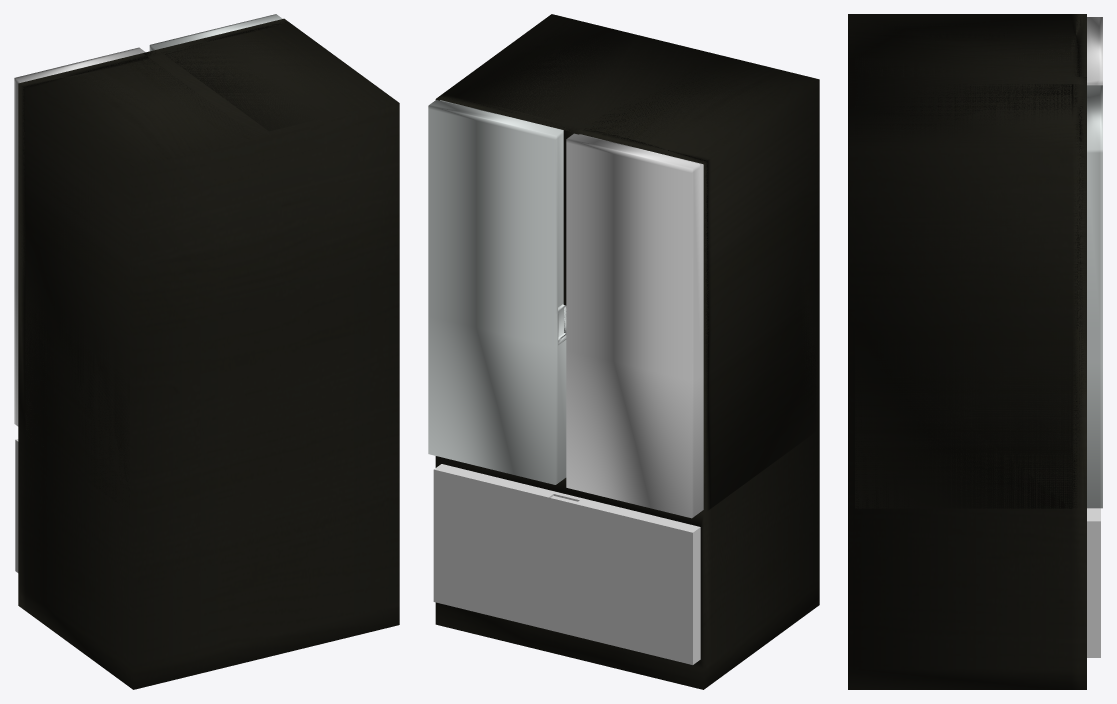
Rendered from WAILE (1).glb.
3 views of the same model, side by side, from view 1: azimuth 30°, elevation 25°; view 2: azimuth 150°, elevation 25°; view 3: azimuth 270°, elevation 25° (orthographic). The views are drawn at different scales.
Visible parts, largest first — view 1: Cube, Cube.002, Cube.003; view 2: Cube, Cube.002, Cube.003, Cube.001; view 3: Cube, Cube.003, Cube.001, Cube.002.
Boxes of the visible parts, box(x1,y1,x2,y2) form: Cube: box(18, 18, 399, 689); Cube.002: box(14, 47, 145, 426); Cube.003: box(149, 14, 282, 51); Cube: box(435, 14, 819, 689); Cube.002: box(566, 133, 703, 518); Cube.003: box(428, 100, 566, 484); Cube.001: box(433, 464, 700, 664); Cube: box(848, 14, 1086, 689); Cube.003: box(1087, 85, 1102, 508); Cube.001: box(1087, 508, 1100, 657); Cube.002: box(1087, 17, 1102, 85).
Bounding box in the file's own units: 1.6 × 3 × 1.28.
3 materials, 1 textured.
